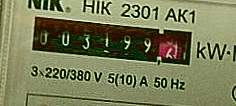0: (35, 26, 48, 45), (58, 27, 69, 46)
1: (100, 28, 109, 47)
3: (79, 31, 88, 50)
6: (162, 44, 172, 60)
9: (140, 35, 150, 53), (120, 32, 129, 50)
screen: (24, 10, 198, 72)
